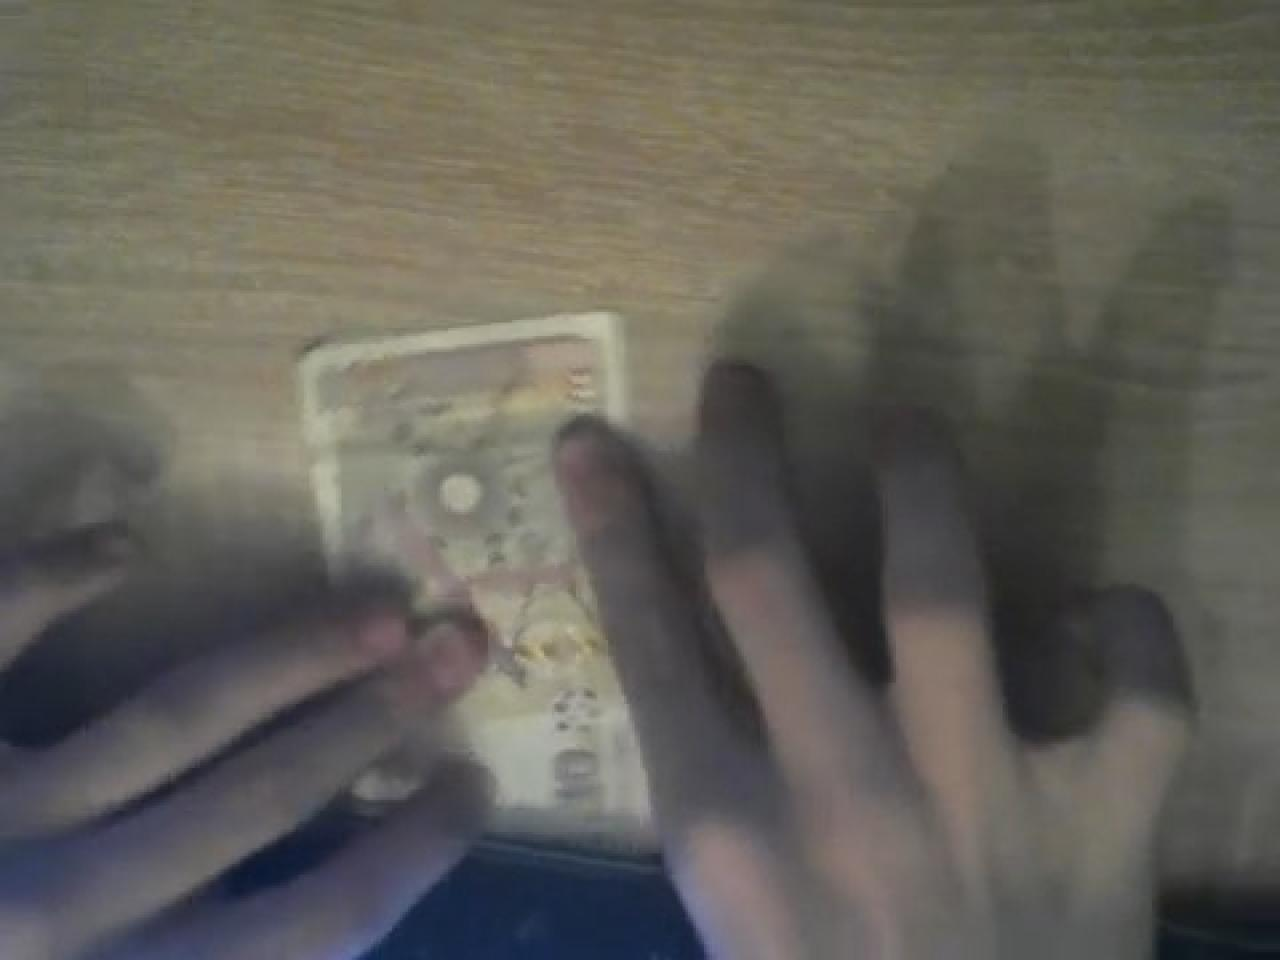10leva: (293, 315, 653, 861)
